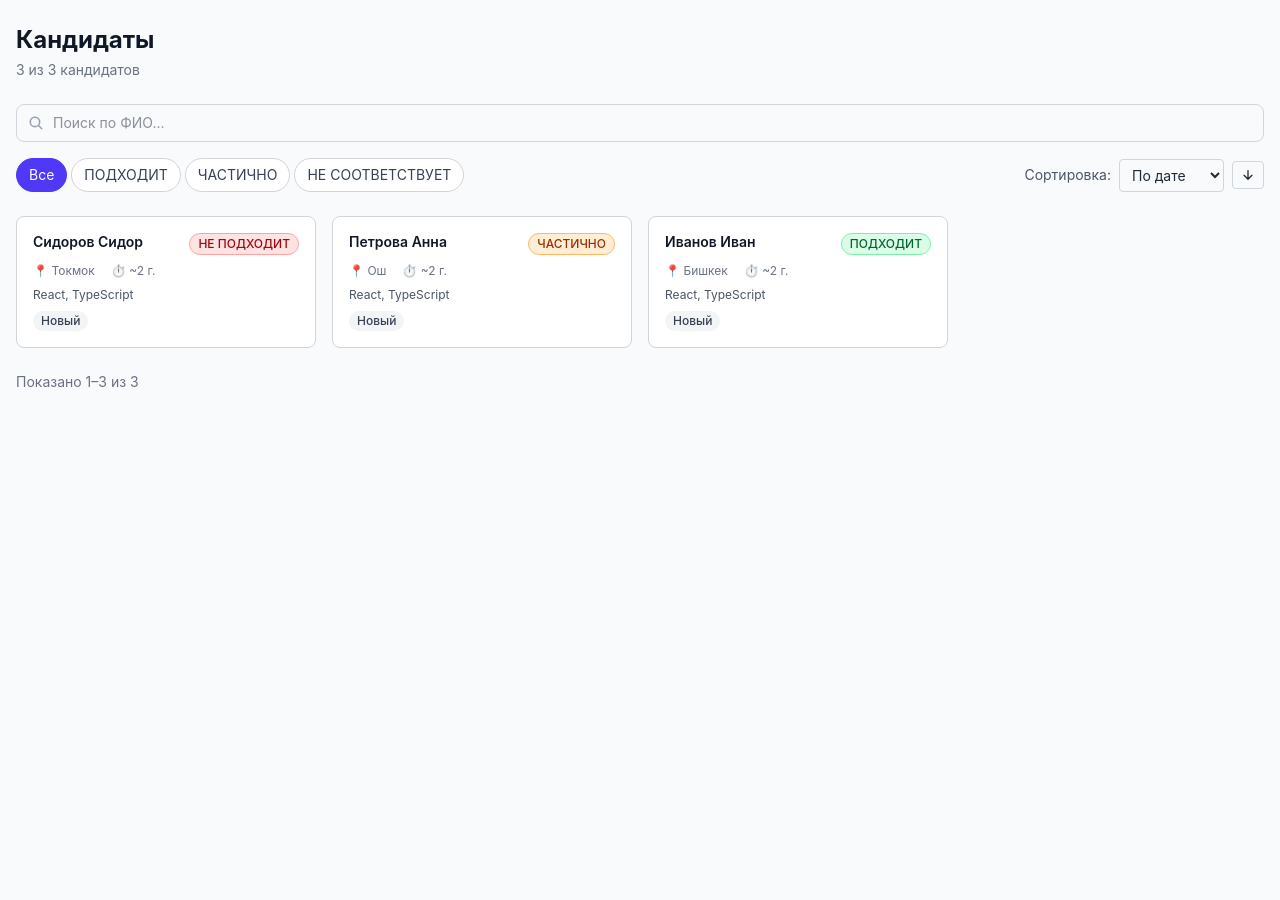
Интеграция: список кандидатов → детальная страница › переходит на детальную страницу при клике по карточке
The image size is (1280, 900).
expect the heading "Иванов Иван" is shown: met, box 665,233 -> 756,250
// Нажимаем на карточку кандидата
Click the link with aria-label "Кандидат Иванов Иван": (710, 242) 648,216 -> 948,348
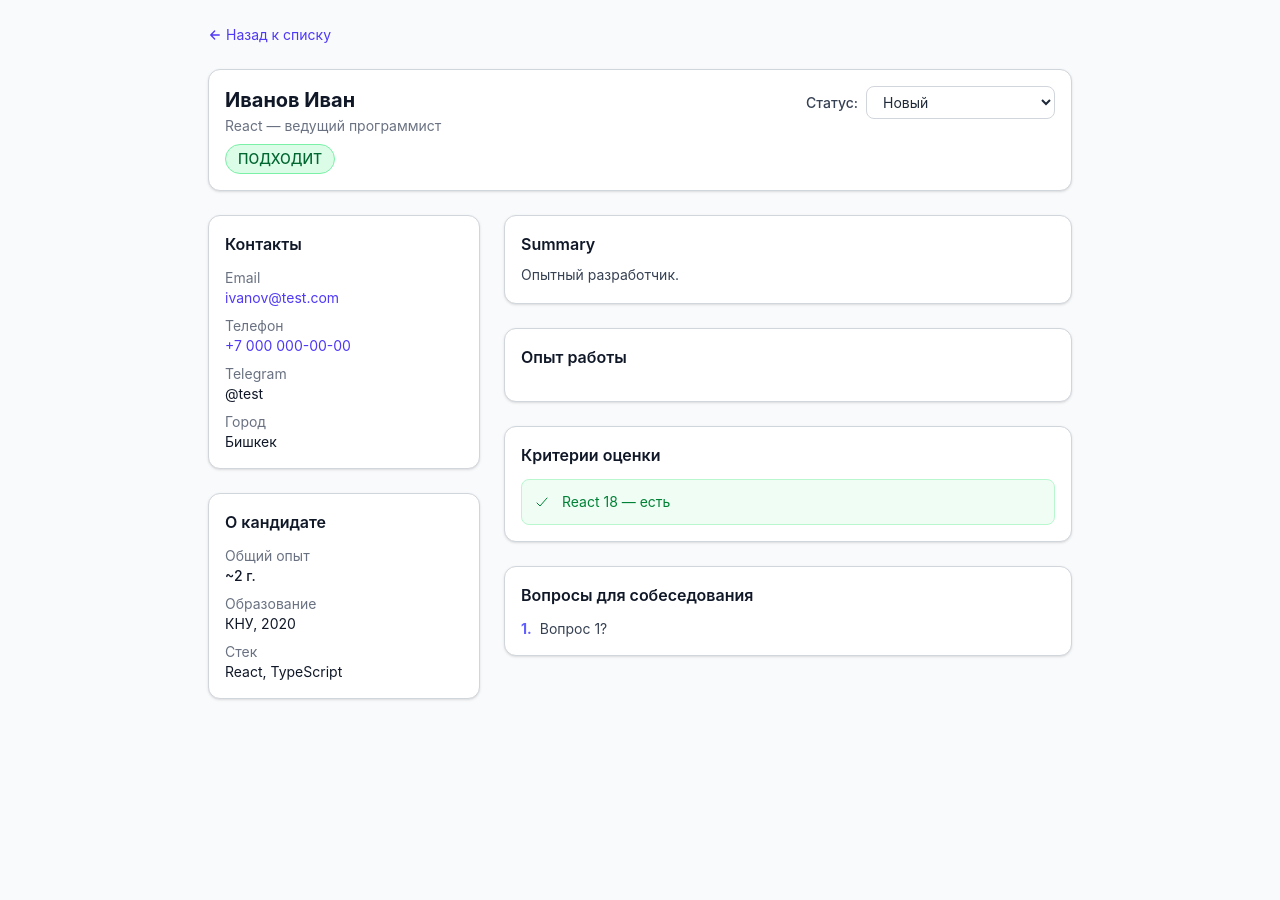
expect the link "ivanov@test.com" is shown: met, box 225,289 -> 339,306
expect the link "Назад к списку" is shown: met, box 208,25 -> 331,45
